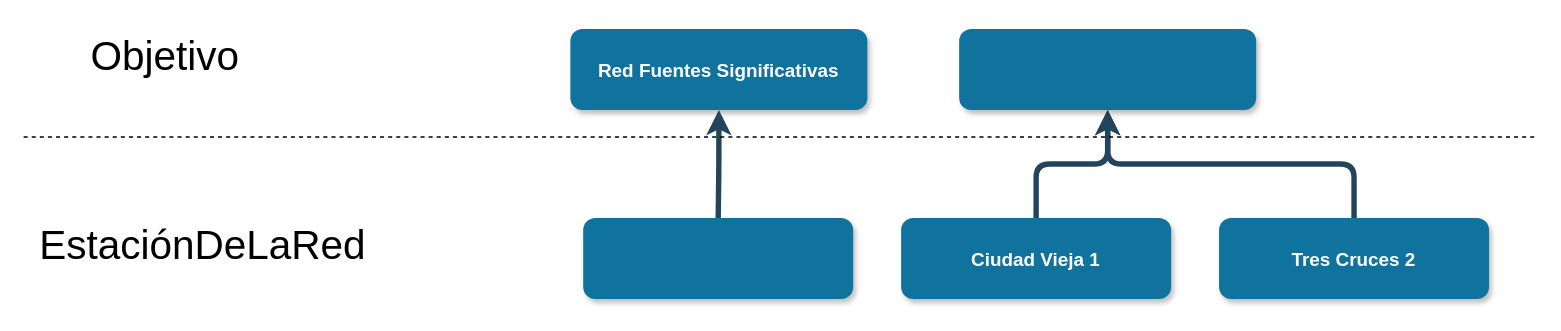
Image size: 1561x331. Some labels were removed from this diagram. Each missing label, with the centre of its shape:
ANCAP: (x=719, y=260)
Red Base: (x=1108, y=71)
